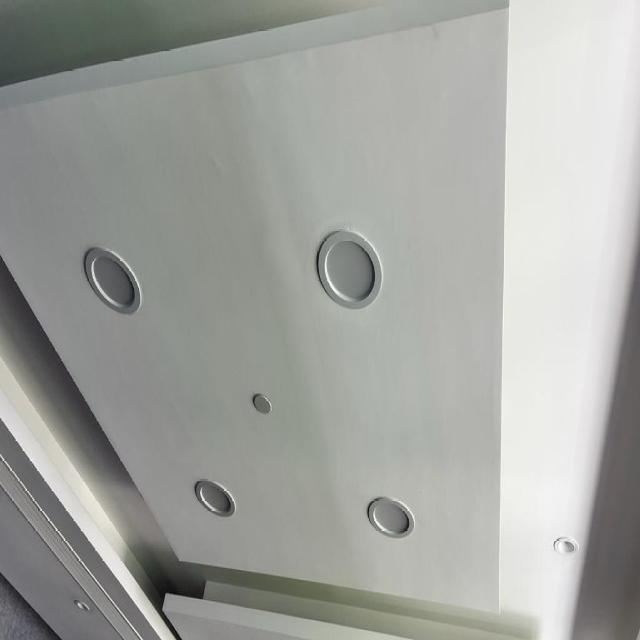Light-Closed: (311, 223, 389, 318), (77, 240, 145, 321), (365, 492, 419, 542), (189, 470, 239, 524), (550, 532, 582, 562), (70, 596, 91, 616)
